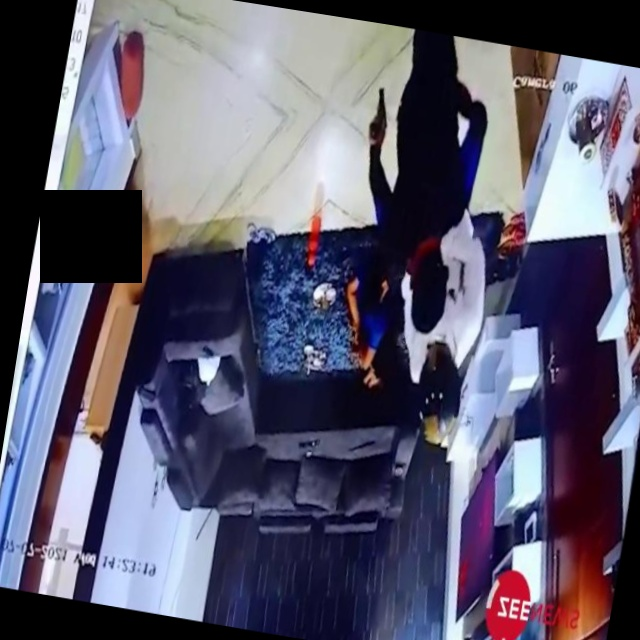gun: (366, 82, 391, 146)
